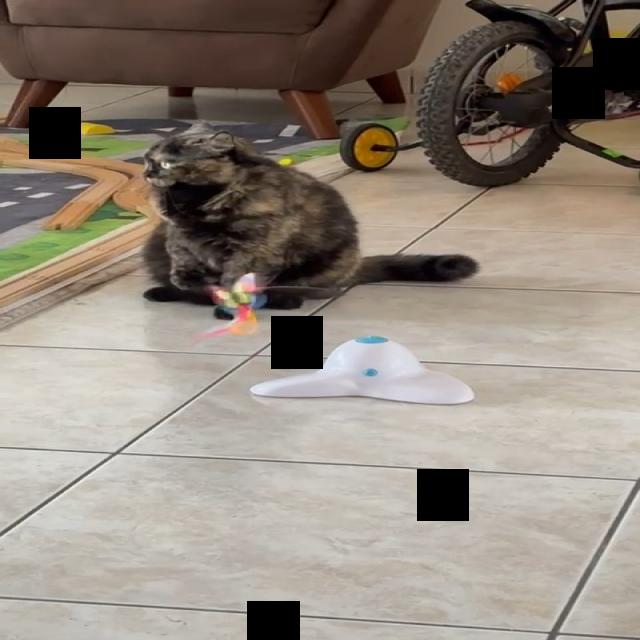authorized: (137, 119, 479, 313)
